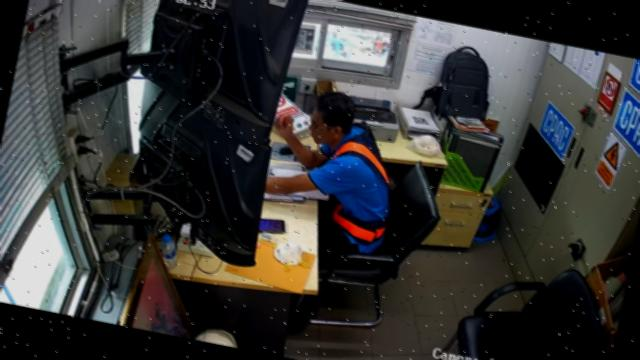Head: (310, 93, 356, 147)
People: (264, 93, 391, 260)
Phone: (259, 219, 286, 233)
